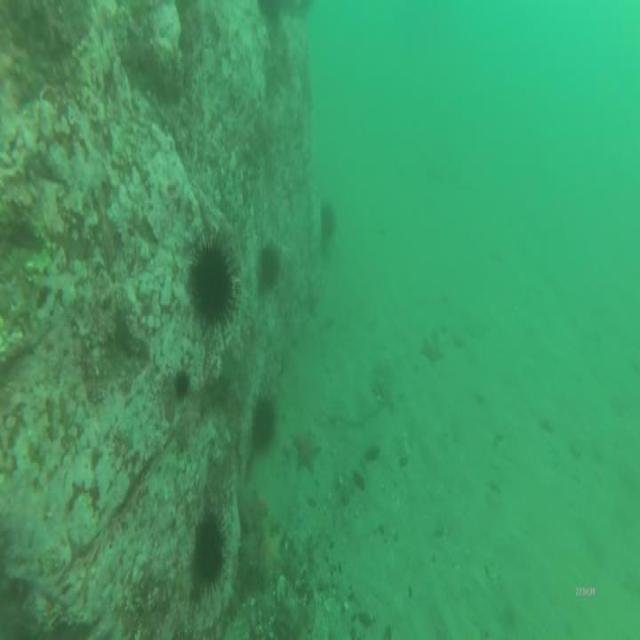echinus: (189, 247, 234, 326), (195, 520, 222, 592), (252, 400, 274, 449), (260, 242, 280, 294), (320, 200, 334, 238), (174, 367, 190, 398)
starfish: (259, 528, 285, 575), (294, 432, 318, 464), (421, 334, 443, 364)
